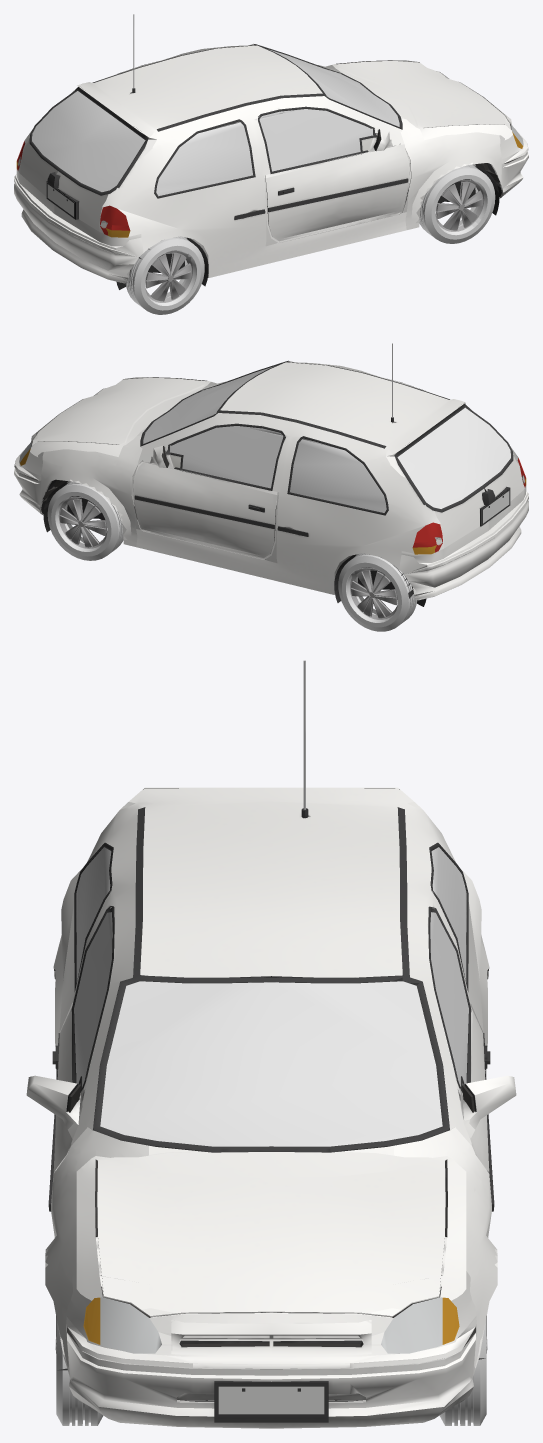
The model's file is caipora.glb.
The picture shows the model from 3 angles, top to bottom: view 1: azimuth 30°, elevation 25°; view 2: azimuth 150°, elevation 25°; view 3: azimuth 270°, elevation 25°; orthographic projection. The views are drawn at different scales.
Visible parts, largest first — view 1: body, door_fr, hood, glass_rear, bumper_rear, glass_door_fr, fender_front_right, glass_door_rr, trunk, wheel_rr_tire, wheel_fr_tire, glass_windshield (+6 smaller); view 2: body, door_fl, hood, glass_rear, bumper_rear, glass_door_fl, fender_front_left, glass_door_rl, trunk, wheel_rl_tire, wheel_fl_tire, glass_windshield (+6 smaller); view 3: body, hood, glass_windshield, bumper_front, fender_front_left, fender_front_right, grille, plate_front, glass_door_fl, glass_door_fr, headlight_left, headlight_right (+8 smaller).
Part boxes in pixels (<box>): body: <box>18,14,523,289</box>; door_fr: <box>258,106,409,246</box>; hood: <box>332,60,512,140</box>; glass_rear: <box>32,91,145,191</box>; bumper_rear: <box>14,169,143,283</box>; glass_door_fr: <box>259,109,372,171</box>; fender_front_right: <box>399,118,501,229</box>; glass_door_rr: <box>156,121,252,196</box>; trunk: <box>20,83,156,231</box>; wheel_rr_tire: <box>125,236,204,314</box>; wheel_fr_tire: <box>419,164,495,243</box>; glass_windshield: <box>268,49,399,126</box>; body: <box>19,343,524,606</box>; door_fl: <box>133,423,285,562</box>; hood: <box>30,377,210,456</box>; glass_rear: <box>397,407,510,508</box>; bumper_rear: <box>399,485,528,600</box>; glass_door_fl: <box>170,426,283,488</box>; fender_front_left: <box>41,434,144,546</box>; glass_door_rl: <box>290,438,386,512</box>; trunk: <box>386,403,522,548</box>; wheel_rl_tire: <box>338,553,417,631</box>; wheel_fl_tire: <box>47,481,123,560</box>; glass_windshield: <box>143,366,274,443</box>; body: <box>45,660,497,1370</box>; hood: <box>76,1151,466,1313</box>; glass_windshield: <box>100,981,442,1146</box>; bumper_front: <box>66,1316,476,1428</box>; fender_front_left: <box>394,1127,497,1368</box>; fender_front_right: <box>45,1127,148,1368</box>; grille: <box>171,1320,371,1354</box>; plate_front: <box>214,1381,328,1422</box>; glass_door_fl: <box>430,912,468,1089</box>; glass_door_fr: <box>74,912,112,1086</box>; headlight_left: <box>381,1297,459,1353</box>; headlight_right: <box>83,1297,161,1353</box>.
Bounding box in the file's own units: 3.74 × 1.98 × 1.76.
Materials: 12 (8 with a texture image).
